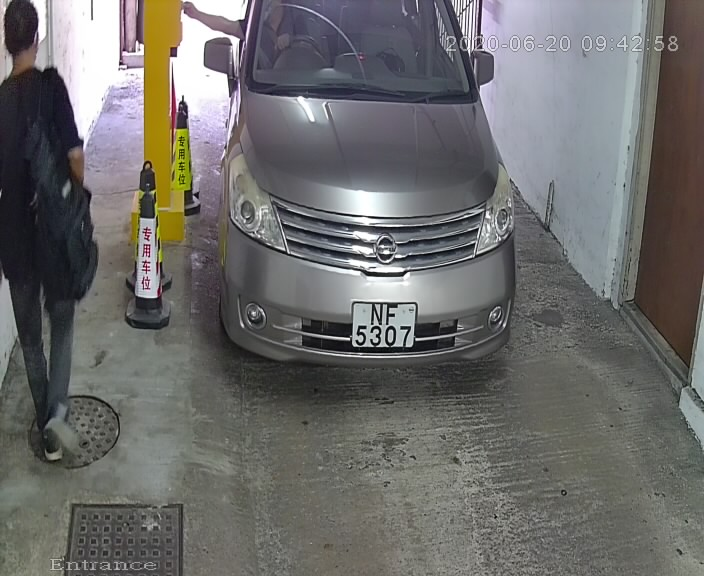privatecar: (210, 3, 507, 383)
